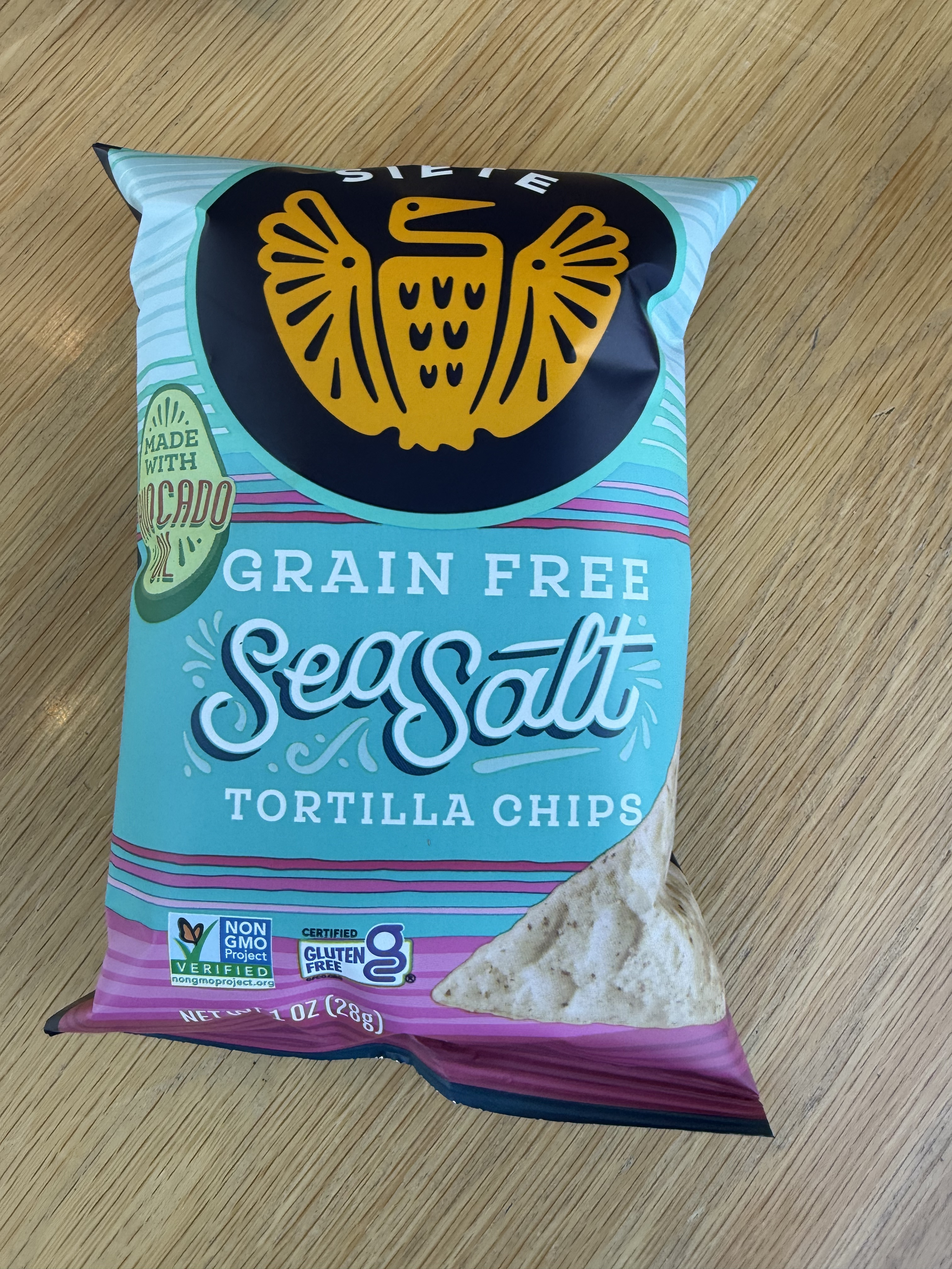sea_salt: (91, 124, 768, 1140)
